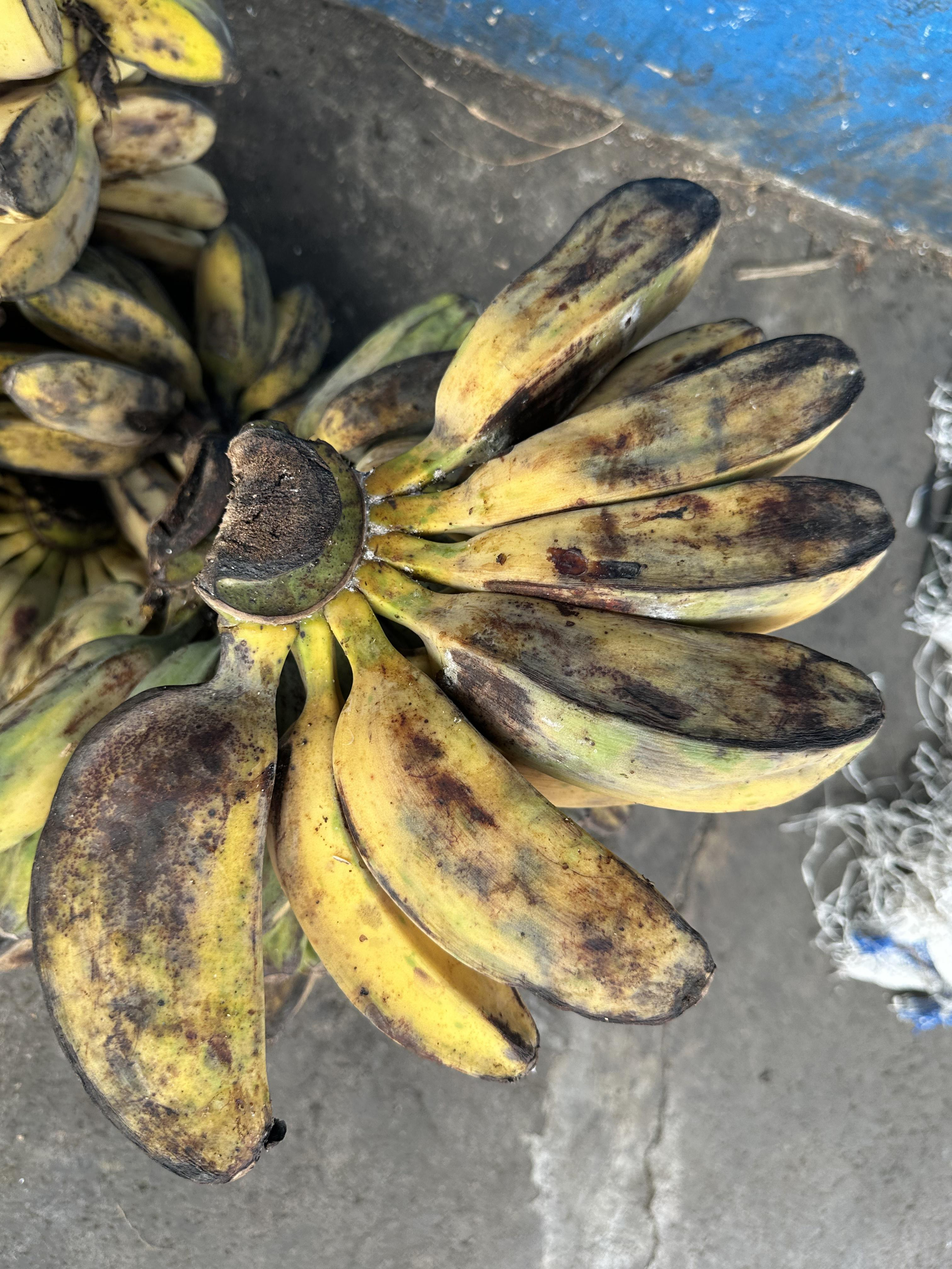ripe: (30, 178, 896, 1183), (0, 221, 331, 480), (94, 80, 228, 270)
